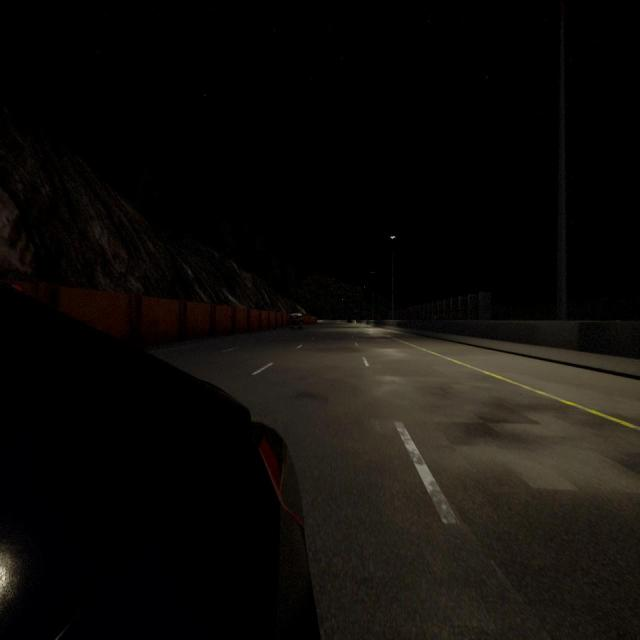Vehicle: (0, 299, 316, 640), (287, 314, 306, 331)
